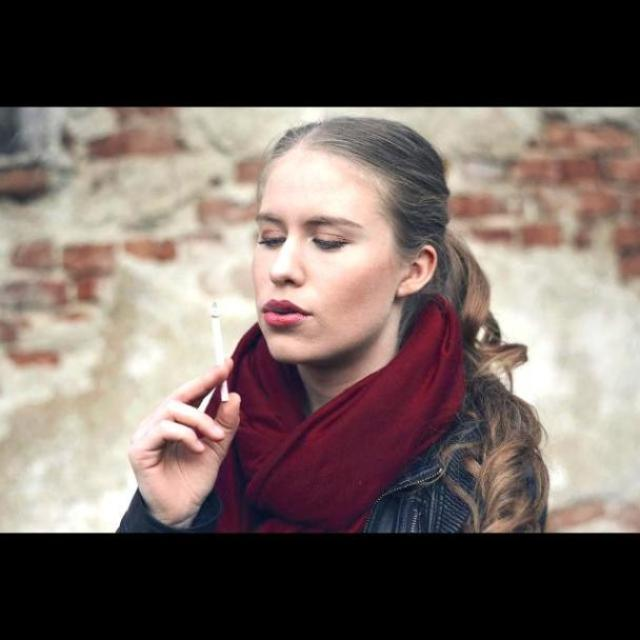rokok: (206, 311, 238, 407)
